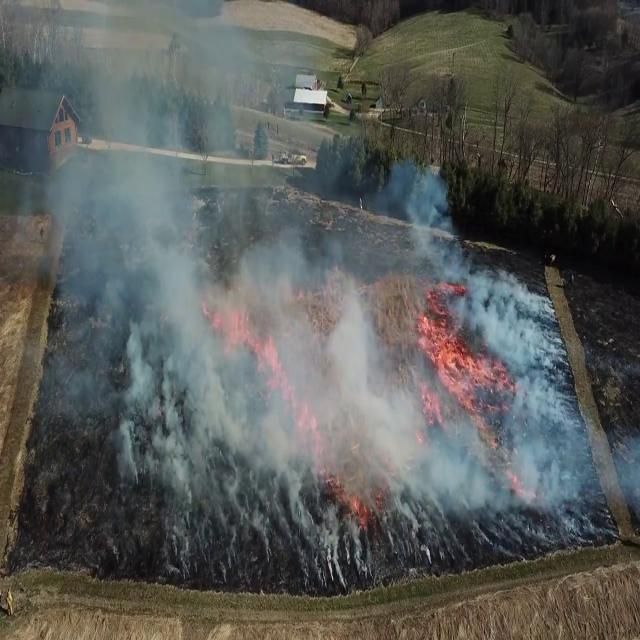Fire: (404, 282, 501, 432)
Smoke: (29, 5, 493, 551)
